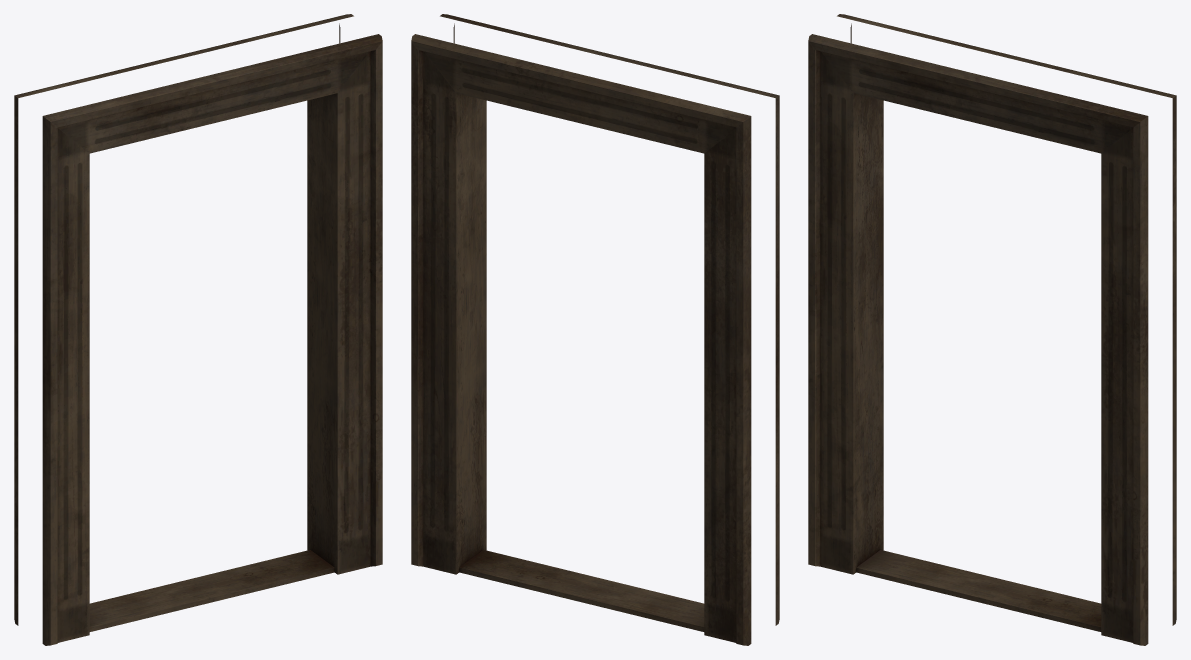
Rendered from Mesh_Door_Frame_02.gltf.
3 views of the same model, side by side, from view 1: azimuth 30°, elevation 25°; view 2: azimuth 150°, elevation 25°; view 3: azimuth 330°, elevation 25° (orthographic).
Parts seen in each view (by area): view 1: Mesh_Door_Frame_02; view 2: Mesh_Door_Frame_02; view 3: Mesh_Door_Frame_02.
Part boxes in pixels (bbox=[...]): Mesh_Door_Frame_02: bbox=[14, 14, 382, 645]; Mesh_Door_Frame_02: bbox=[411, 14, 779, 645]; Mesh_Door_Frame_02: bbox=[808, 14, 1176, 645].
Size of the model in its own units: 1.6 by 2.4 by 0.3.
1 material, 1 textured.
